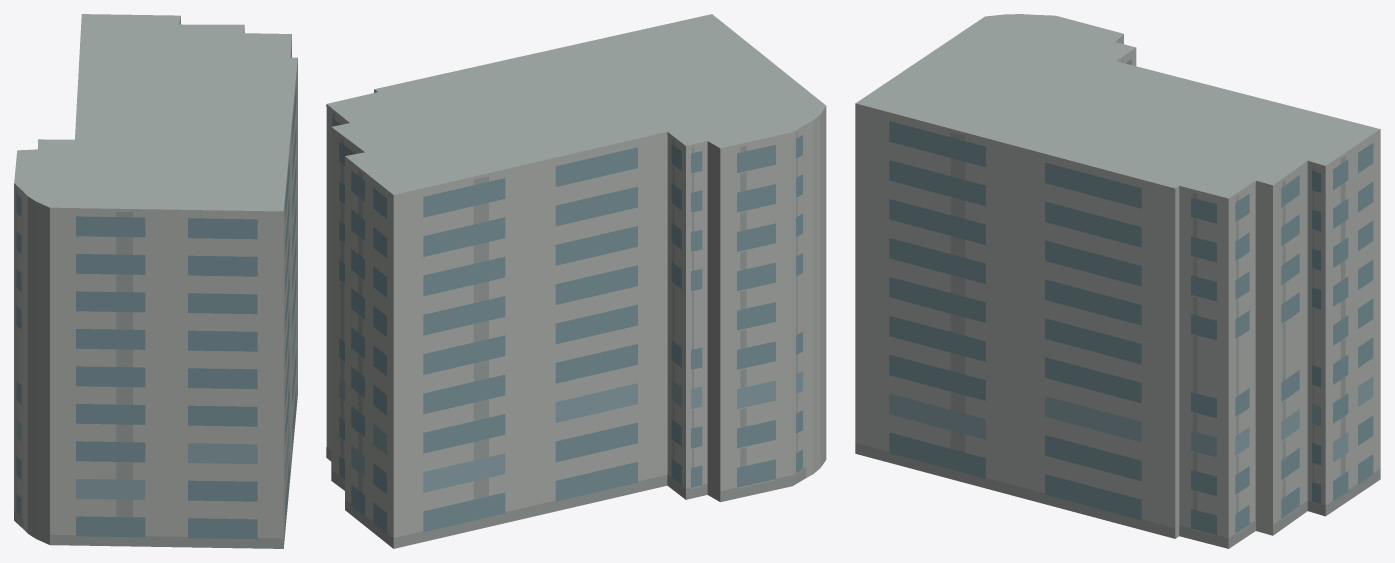
Rendered from survey-upis-32880140.glb.
3 views of the same model, side by side, from view 1: azimuth 30°, elevation 25°; view 2: azimuth 150°, elevation 25°; view 3: azimuth 270°, elevation 25° (orthographic). The views are drawn at different scales.
Visible parts, largest first — view 1: survey-upis-32880140.tmp; view 2: survey-upis-32880140.tmp; view 3: survey-upis-32880140.tmp.
Part boxes in pixels (bbox=[...]): survey-upis-32880140.tmp: bbox=[14, 14, 297, 548]; survey-upis-32880140.tmp: bbox=[326, 14, 826, 548]; survey-upis-32880140.tmp: bbox=[855, 14, 1380, 548].
Size of the model in its own units: 30.28 by 26.8 by 36.4.
